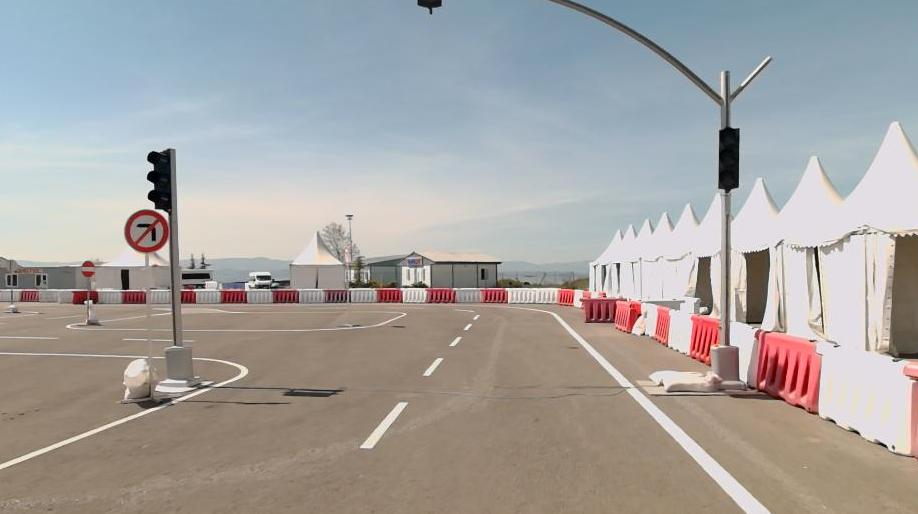nesne: (0, 316, 769, 514), (0, 314, 477, 514), (300, 314, 769, 512), (556, 316, 769, 512), (1, 355, 249, 469), (0, 325, 361, 373), (816, 340, 912, 457), (754, 328, 821, 415), (360, 401, 407, 446), (124, 208, 168, 253), (145, 147, 171, 210), (649, 368, 715, 391), (688, 314, 718, 364), (717, 125, 740, 188), (732, 321, 755, 384), (121, 358, 155, 400), (582, 296, 627, 323), (666, 308, 692, 354), (183, 326, 347, 333), (0, 351, 163, 358), (507, 286, 559, 303), (612, 300, 641, 329), (652, 304, 671, 342), (641, 302, 657, 334), (427, 287, 457, 304), (39, 289, 74, 303), (72, 289, 100, 304), (482, 286, 508, 302), (299, 288, 326, 303), (121, 289, 147, 304), (248, 289, 274, 304), (273, 288, 299, 303), (327, 287, 353, 302), (377, 288, 403, 303), (422, 357, 443, 375), (80, 327, 171, 331), (147, 288, 171, 303), (458, 287, 482, 302), (85, 300, 100, 323), (404, 287, 427, 302), (353, 288, 377, 302), (196, 289, 221, 302), (222, 289, 247, 302), (101, 289, 122, 304), (0, 289, 21, 303), (629, 315, 643, 333), (21, 289, 38, 303), (81, 259, 94, 277), (560, 287, 573, 305), (0, 335, 55, 339), (180, 289, 195, 303), (124, 337, 171, 341), (449, 336, 461, 346)
